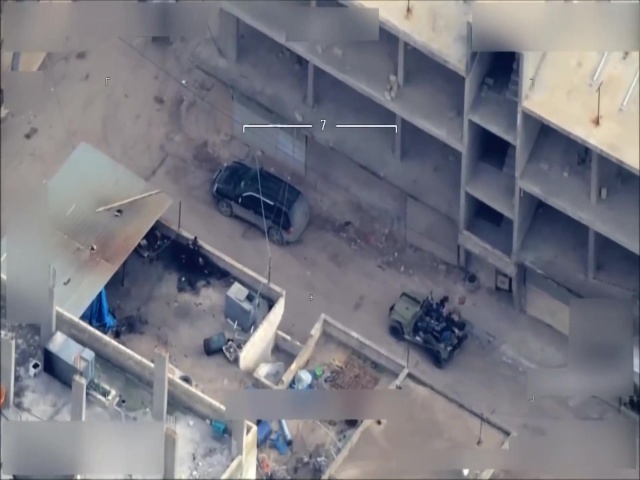vehicle: (211, 158, 313, 245), (388, 290, 469, 366)
